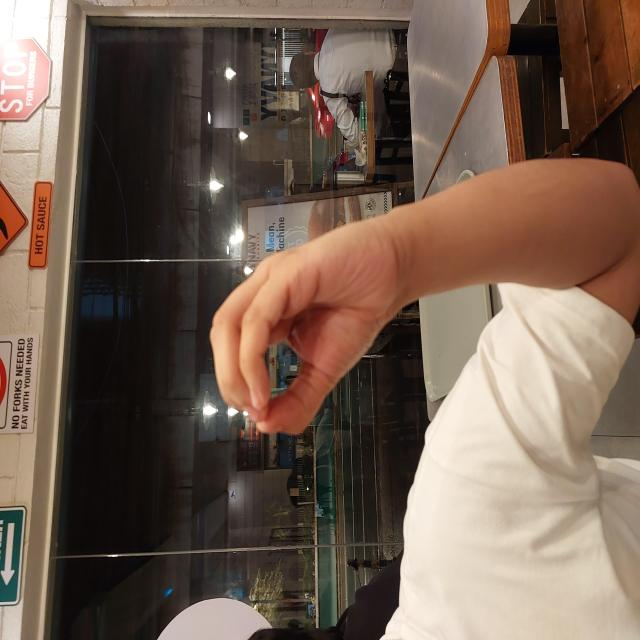O: (201, 208, 419, 401)
